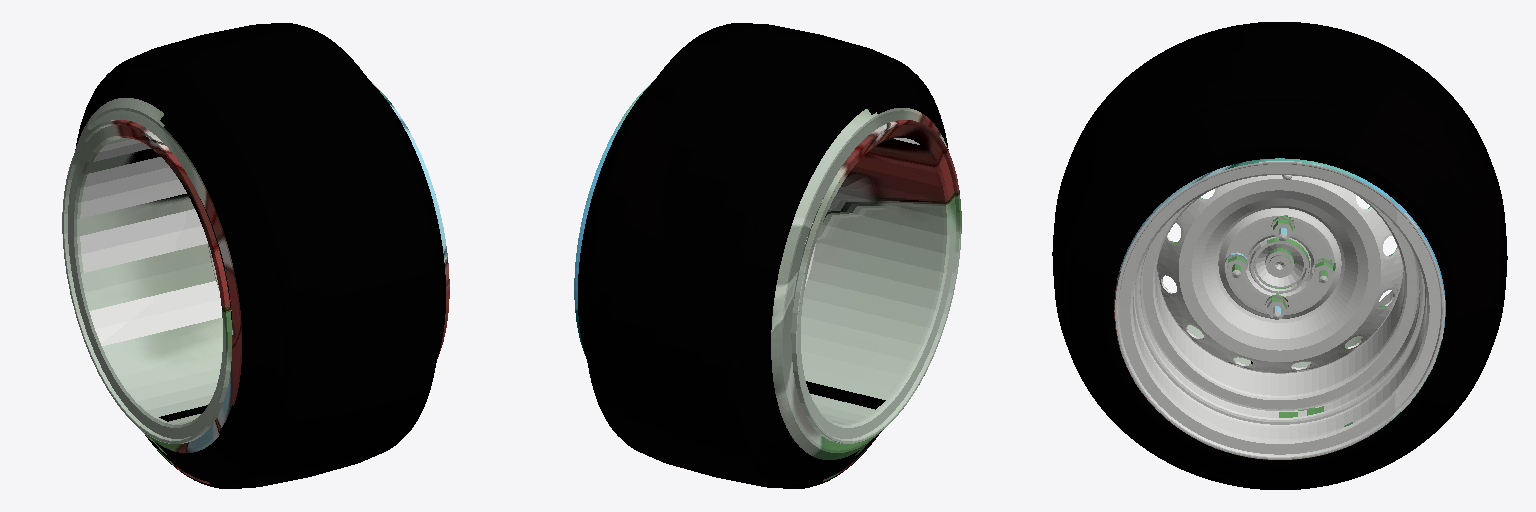
The picture shows the model from 3 angles: view 1: azimuth 30°, elevation 25°; view 2: azimuth 150°, elevation 25°; view 3: azimuth 270°, elevation 25°; orthographic projection.
Visible parts, largest first — view 1: Wheel_195_50R13x10_002; view 2: Wheel_195_50R13x10_002; view 3: Wheel_195_50R13x10_002.
Part boxes in pixels (x1,y1,x2,y2): Wheel_195_50R13x10_002: (62, 23, 449, 488); Wheel_195_50R13x10_002: (574, 23, 961, 488); Wheel_195_50R13x10_002: (1052, 22, 1507, 489).
Size of the model in its own units: 2.03 by 3.58 by 3.58.
Materials: 1 (1 with a texture image).